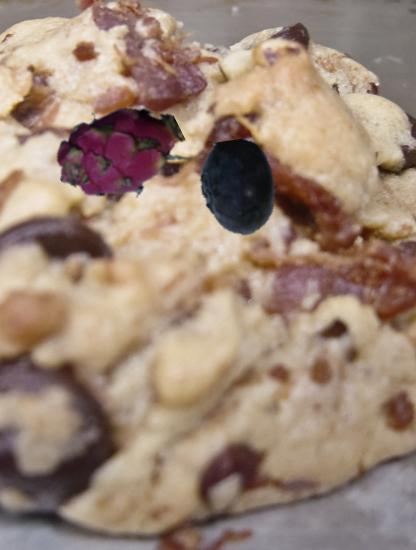Blueberry: (190, 140, 286, 236)
Pitahaya: (54, 87, 184, 217)
